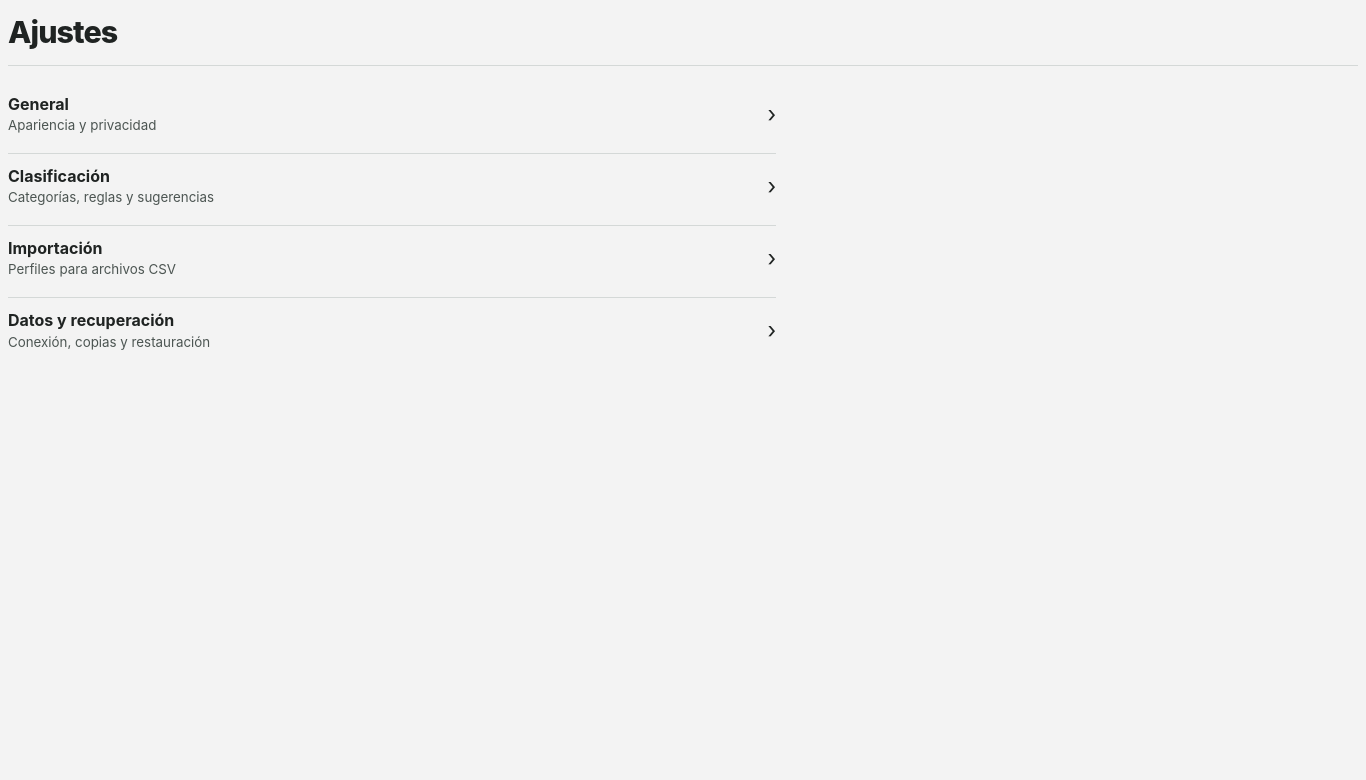
Scenario: SettingsView › separa la respuesta HTTP de la frescura bancaria y no muestra errores del proveedor
The width and height of the screenshot is (1366, 780).
Click the button "Datos y recuperación Conexión, copias y restauración ›" at (91, 320), box top-left (8, 297), bottom-right (776, 362)
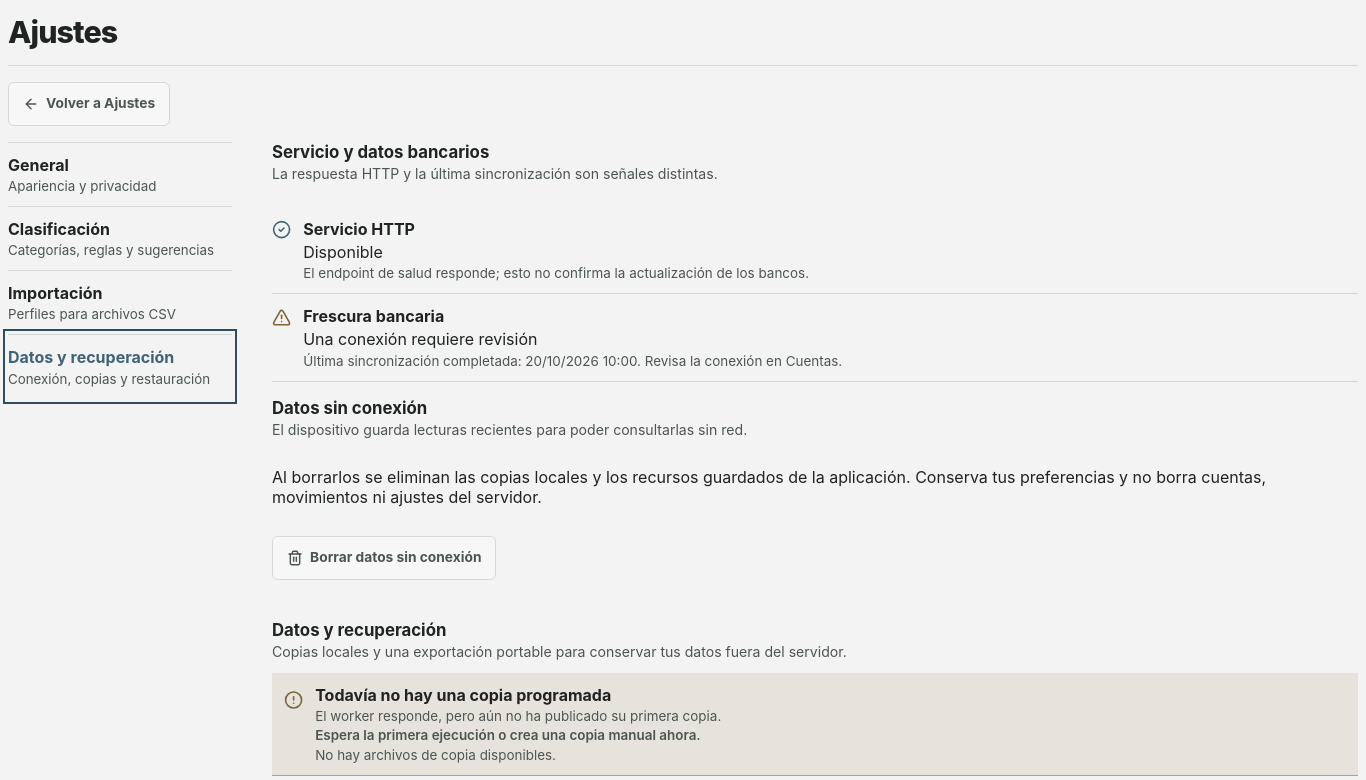
Result: the text "Disponible" is shown at top-left (303, 242), bottom-right (383, 262)
Result: the text "Servicio HTTP" is shown at top-left (303, 219), bottom-right (415, 239)
Result: the text "Frescura bancaria" is shown at top-left (303, 306), bottom-right (444, 326)
